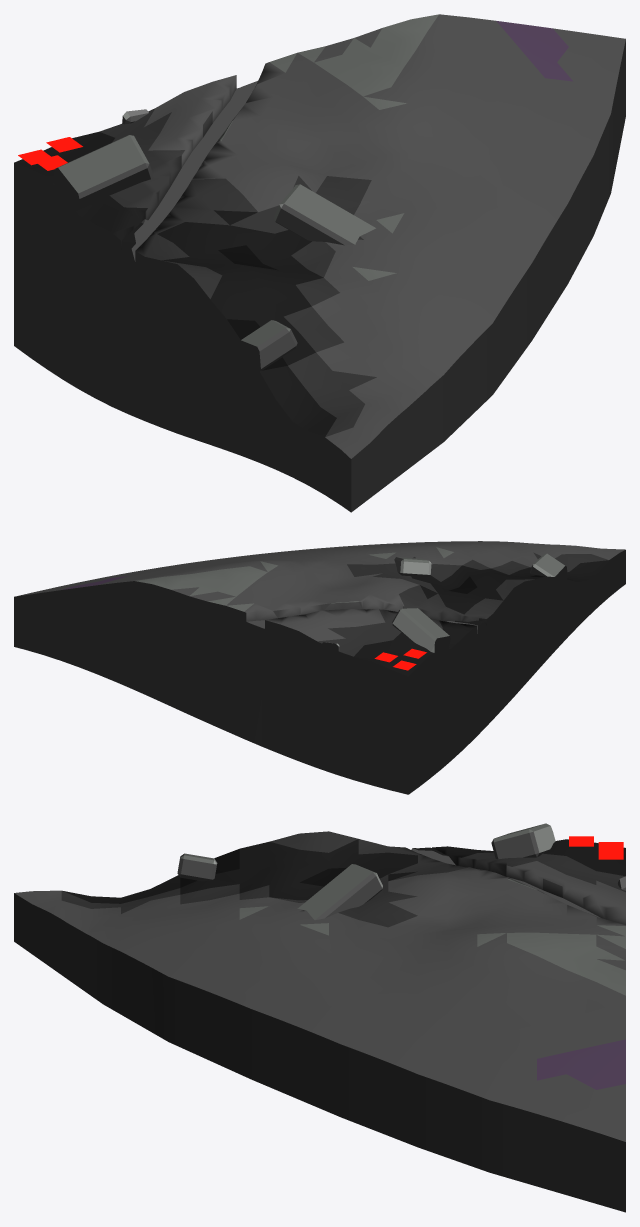
The model's file is camanis_boss_170.glb.
3 views of the same model, one above another, from view 1: azimuth 30°, elevation 25°; view 2: azimuth 150°, elevation 25°; view 3: azimuth 270°, elevation 25° (orthographic). The views are drawn at different scales.
Visible parts, largest first — view 1: camanis_boss_170; view 2: camanis_boss_170; view 3: camanis_boss_170.
Part boxes in pixels (x1,y1,x2,y2): camanis_boss_170: [14, 14, 625, 512]; camanis_boss_170: [14, 541, 625, 794]; camanis_boss_170: [14, 823, 625, 1212].
Bounding box in the file's own units: 21.58 × 7.91 × 20.6.
